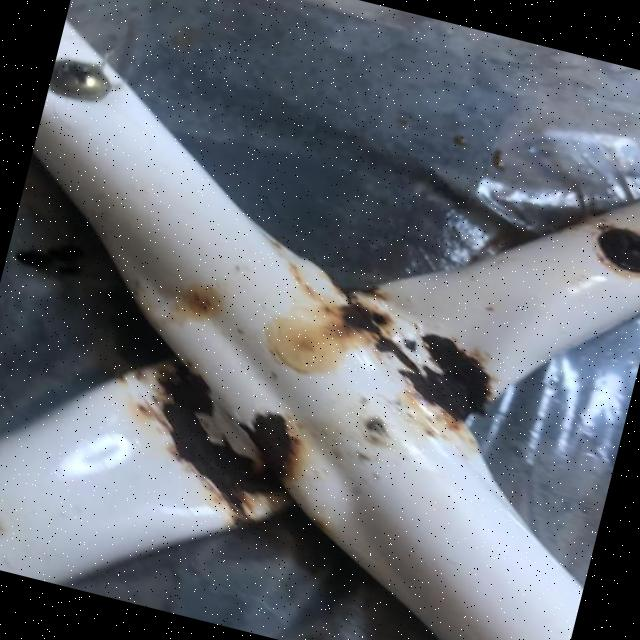Corrosion: (108, 210, 520, 580)
